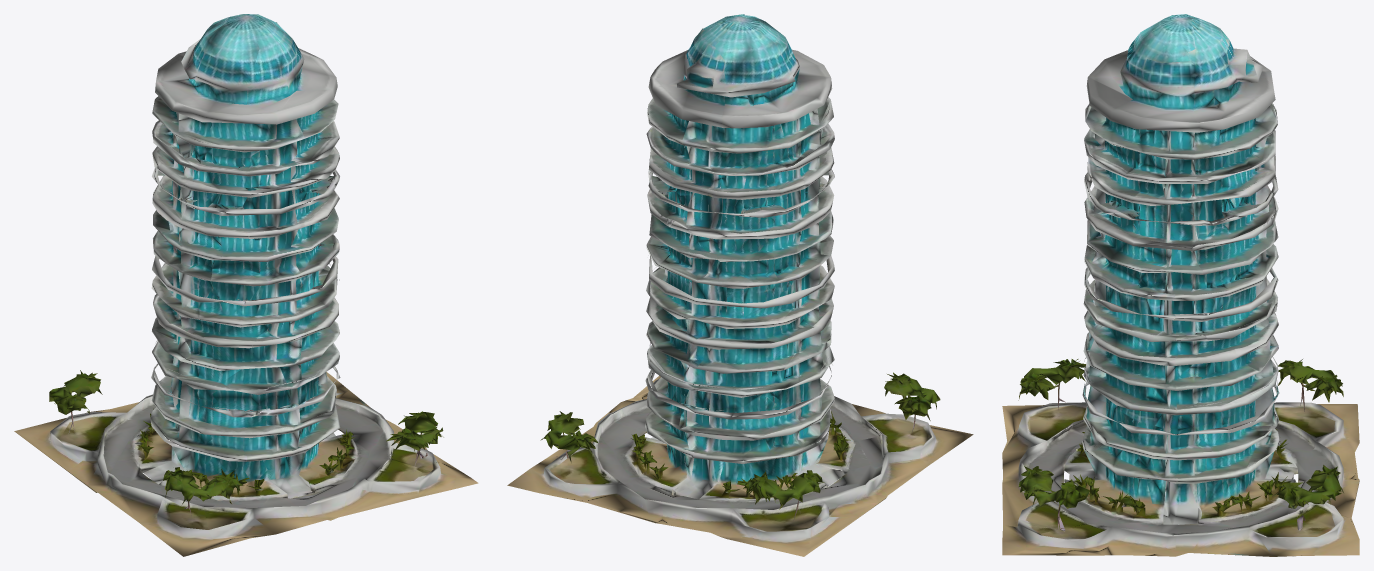
Rendered from hotel.glb.
The picture shows the model from 3 angles, left to right: view 1: azimuth 30°, elevation 25°; view 2: azimuth 150°, elevation 25°; view 3: azimuth 270°, elevation 25°; orthographic projection. The views are drawn at different scales.
Visible parts, largest first — view 1: tripo_node_27470563-239a-4acd-a557-a7a7368bd149; view 2: tripo_node_27470563-239a-4acd-a557-a7a7368bd149; view 3: tripo_node_27470563-239a-4acd-a557-a7a7368bd149.
Boxes of the visible parts, box(x1,y1,x2,y2) form: tripo_node_27470563-239a-4acd-a557-a7a7368bd149: box(14, 14, 478, 556); tripo_node_27470563-239a-4acd-a557-a7a7368bd149: box(507, 14, 973, 556); tripo_node_27470563-239a-4acd-a557-a7a7368bd149: box(1002, 14, 1359, 556).
Bounding box in the file's own units: 0.7005 × 1 × 0.7.
1 material, 1 textured.
